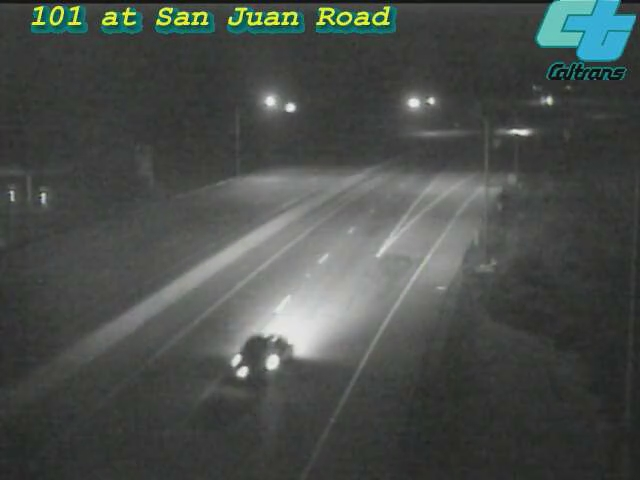vehicle: (202, 305, 312, 415), (491, 107, 541, 157)
